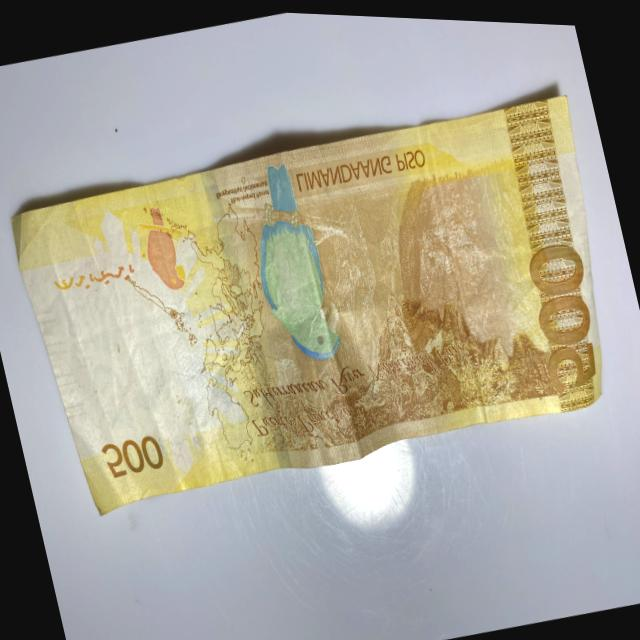500_big_parrot: (236, 158, 345, 366)
500_parrot_watermark: (134, 198, 193, 295)
value_watermark: (62, 319, 94, 374)
